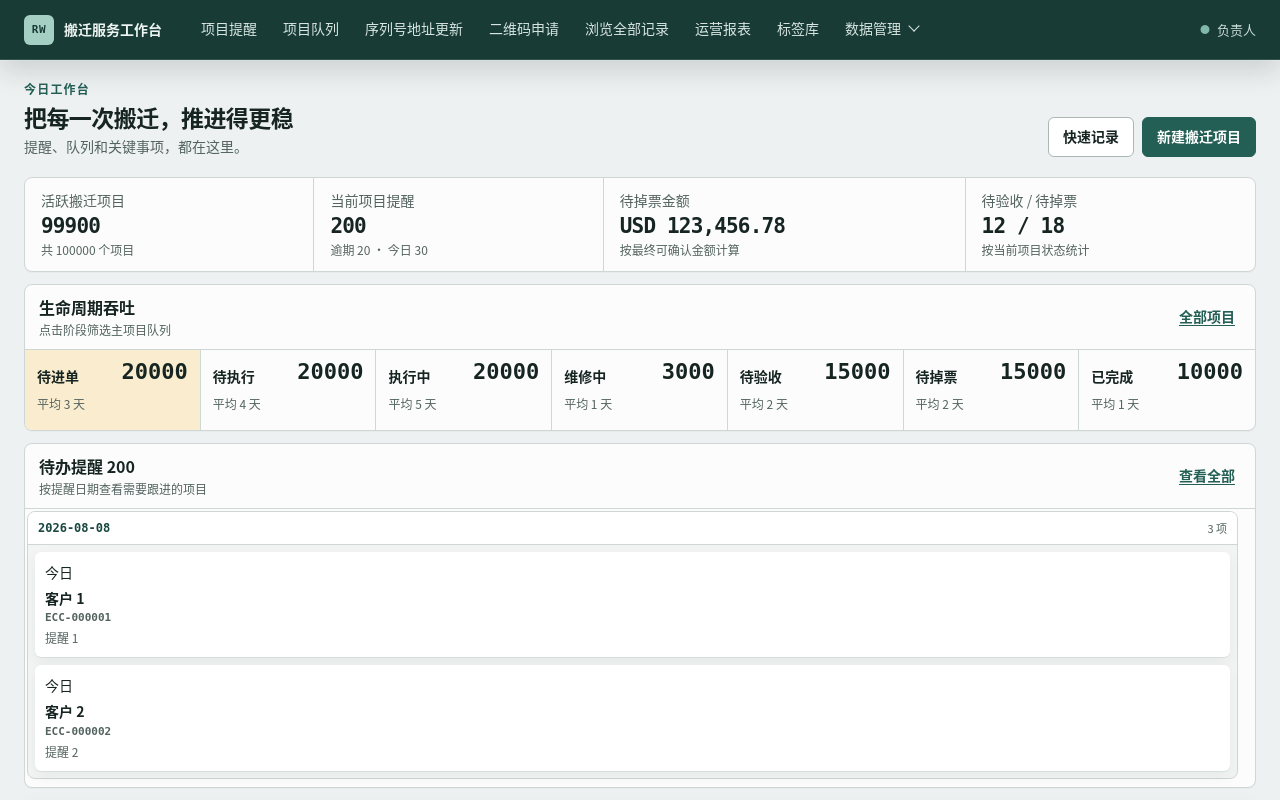
Scenario: Oracle #10 bounded workbench renderer › 标签分组和标签重命名使用稳定 ID payload，并按 bounded invalidation 刷新目录、队列、详情和提醒
The width and height of the screenshot is (1280, 800).
Click the button "标签库": (798, 30) top-left (764, 0), bottom-right (832, 59)
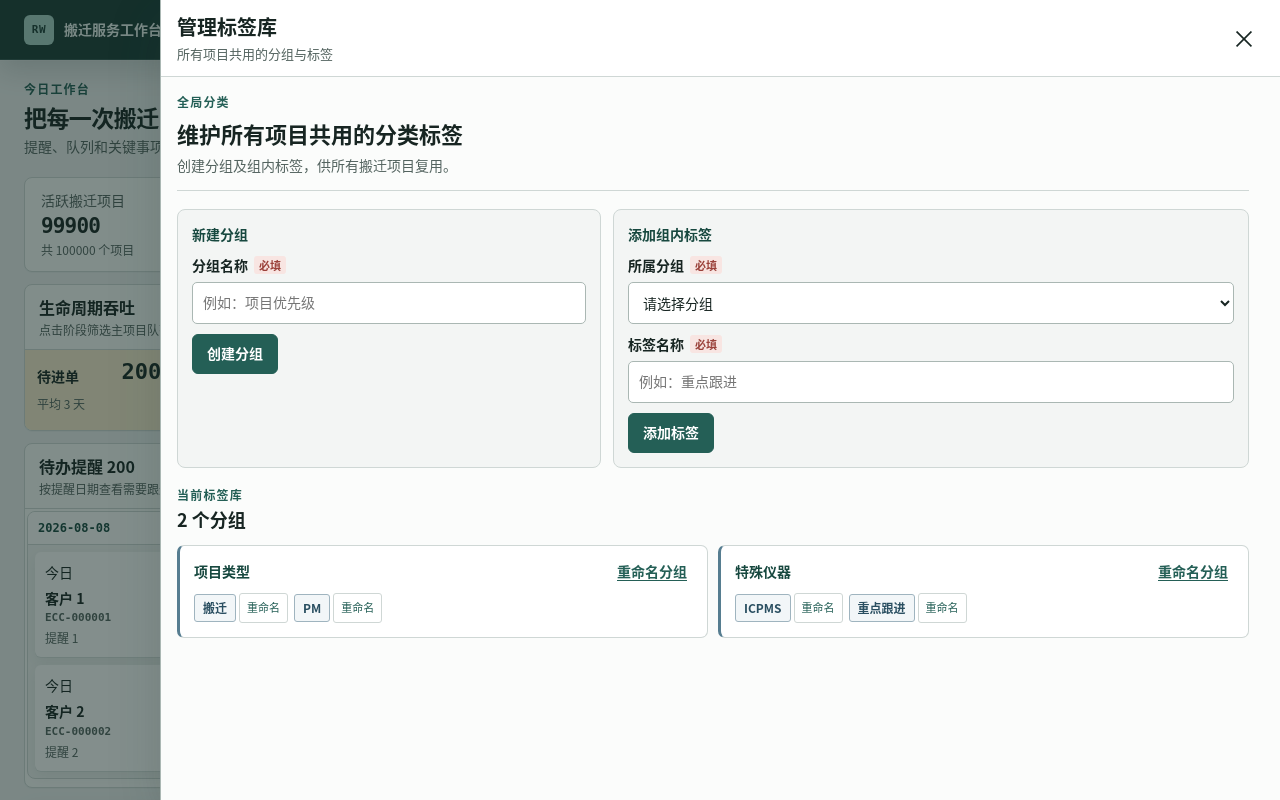
Expected: the text "搬迁" is shown, top-left (194, 594), bottom-right (236, 622)
Click the 1st button "重命名分组": (652, 571) top-left (611, 560), bottom-right (693, 582)
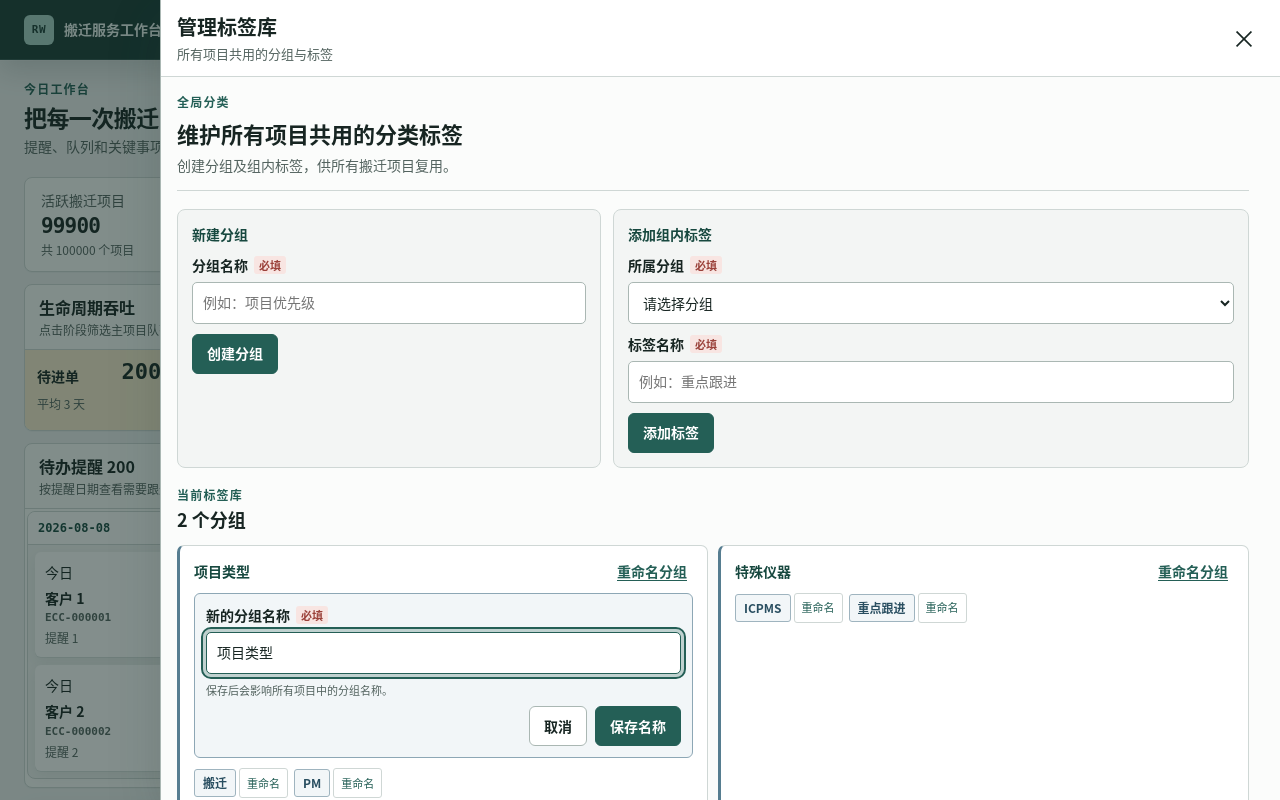
Replace the text in the field labelled "新的分组名称 必填" with "业务类型": (444, 652) top-left (206, 632), bottom-right (681, 674)
Click the button "保存名称": (638, 726) top-left (595, 706), bottom-right (681, 746)
(page scrolled)
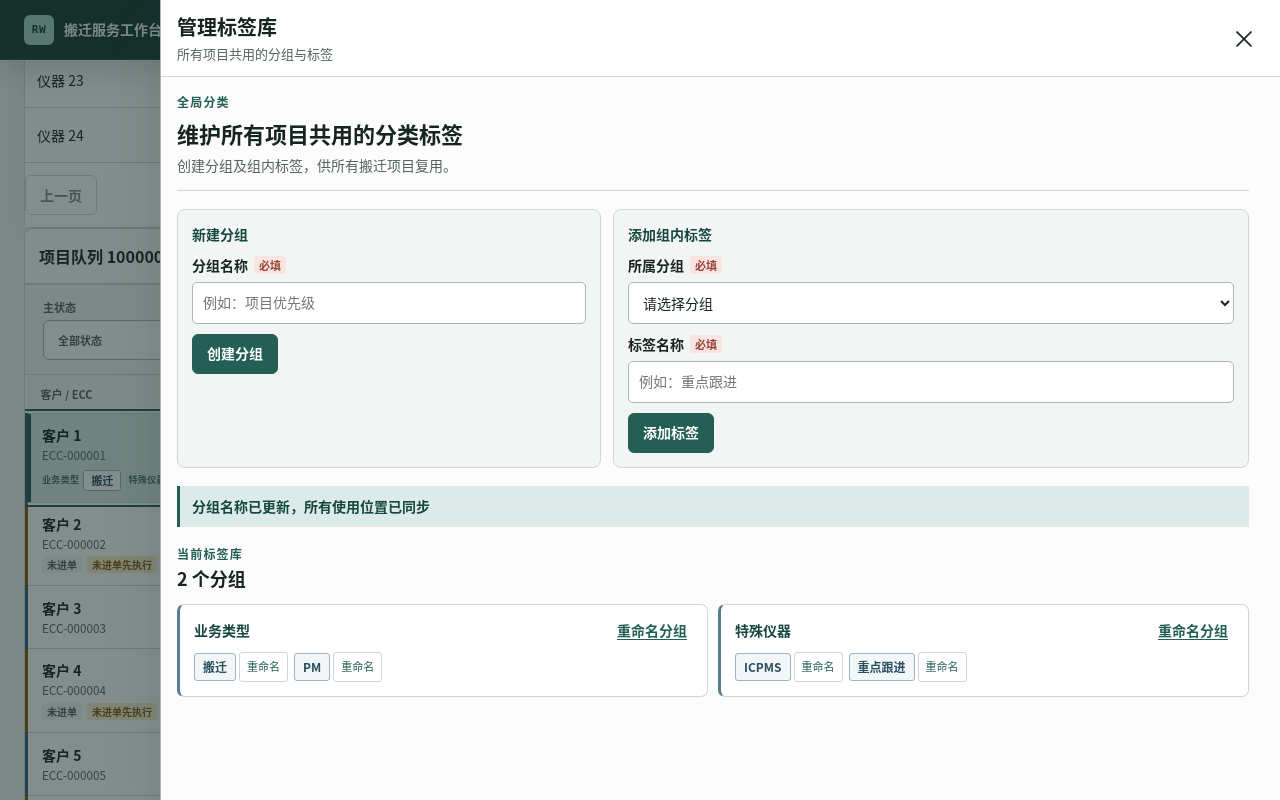
Expected: the heading "业务类型" is shown, top-left (194, 620), bottom-right (250, 640)
Click the button with aria-label "重命名标签搬迁": (264, 666) top-left (239, 652), bottom-right (288, 682)
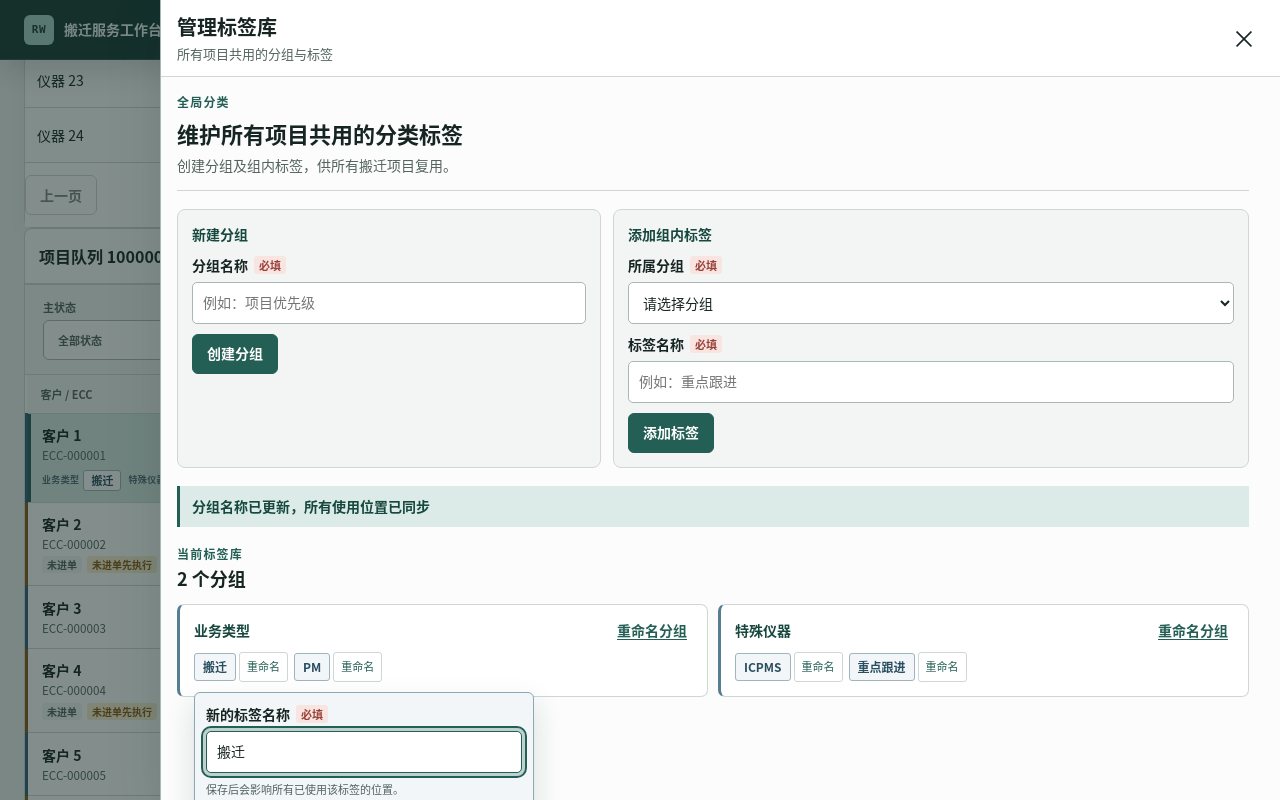
Replace the text in the field labelled "新的标签名称 必填" with "设备搬迁": (364, 752) top-left (206, 730), bottom-right (522, 772)
(page scrolled)
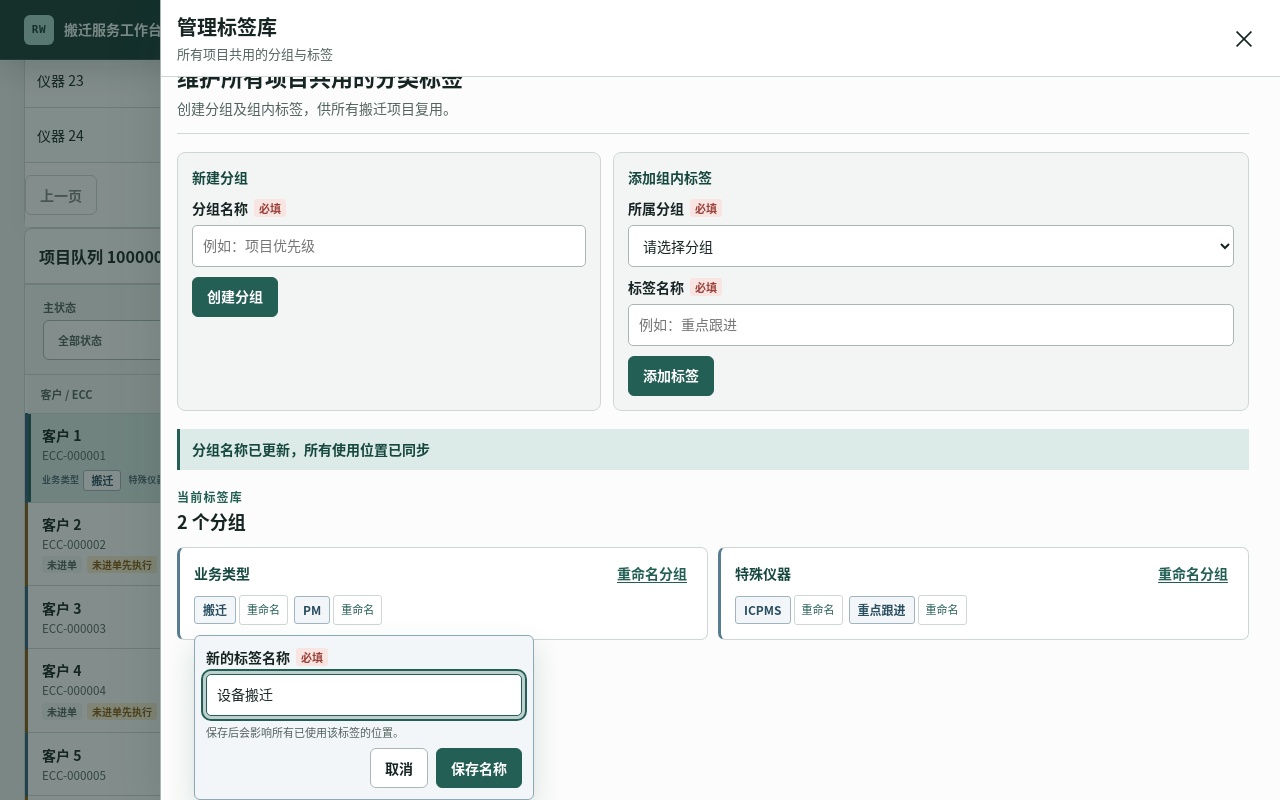
Click the button "保存名称": (479, 768) top-left (436, 748), bottom-right (522, 788)
(page scrolled)
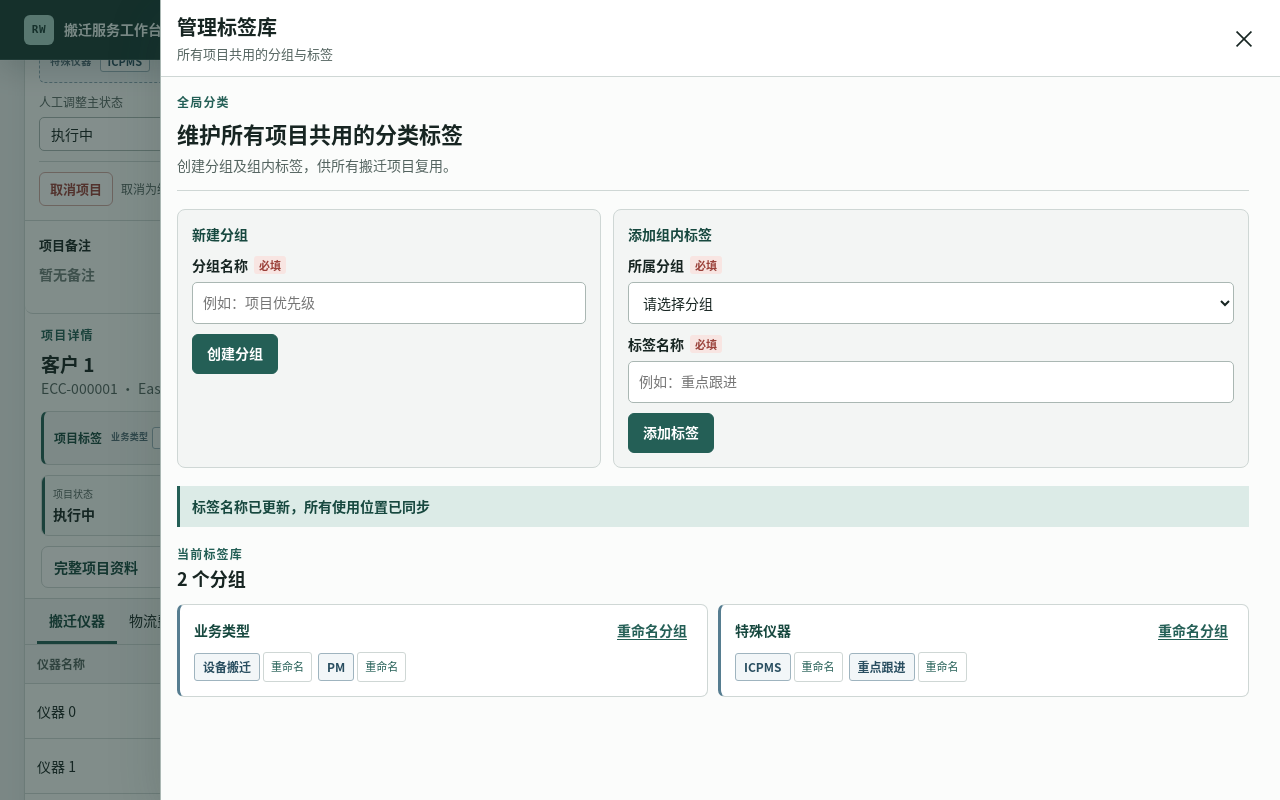
Expected: the text "设备搬迁" is shown, top-left (194, 652), bottom-right (260, 680)
